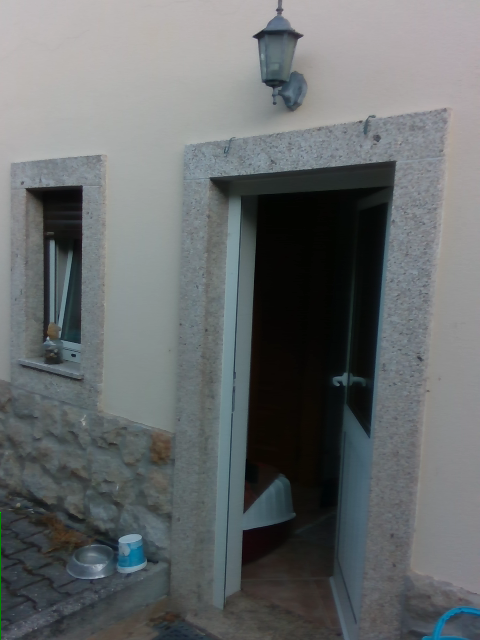semi: (212, 164, 401, 639)
